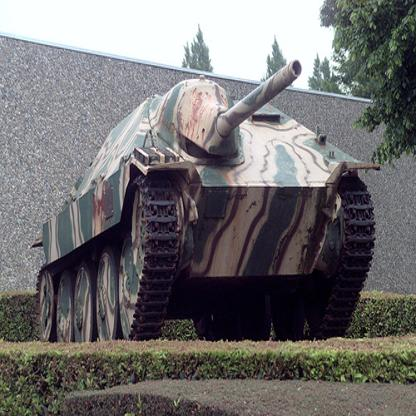Tank: (33, 58, 378, 363)
